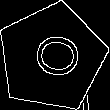O_W: (23, 32, 81, 83)
